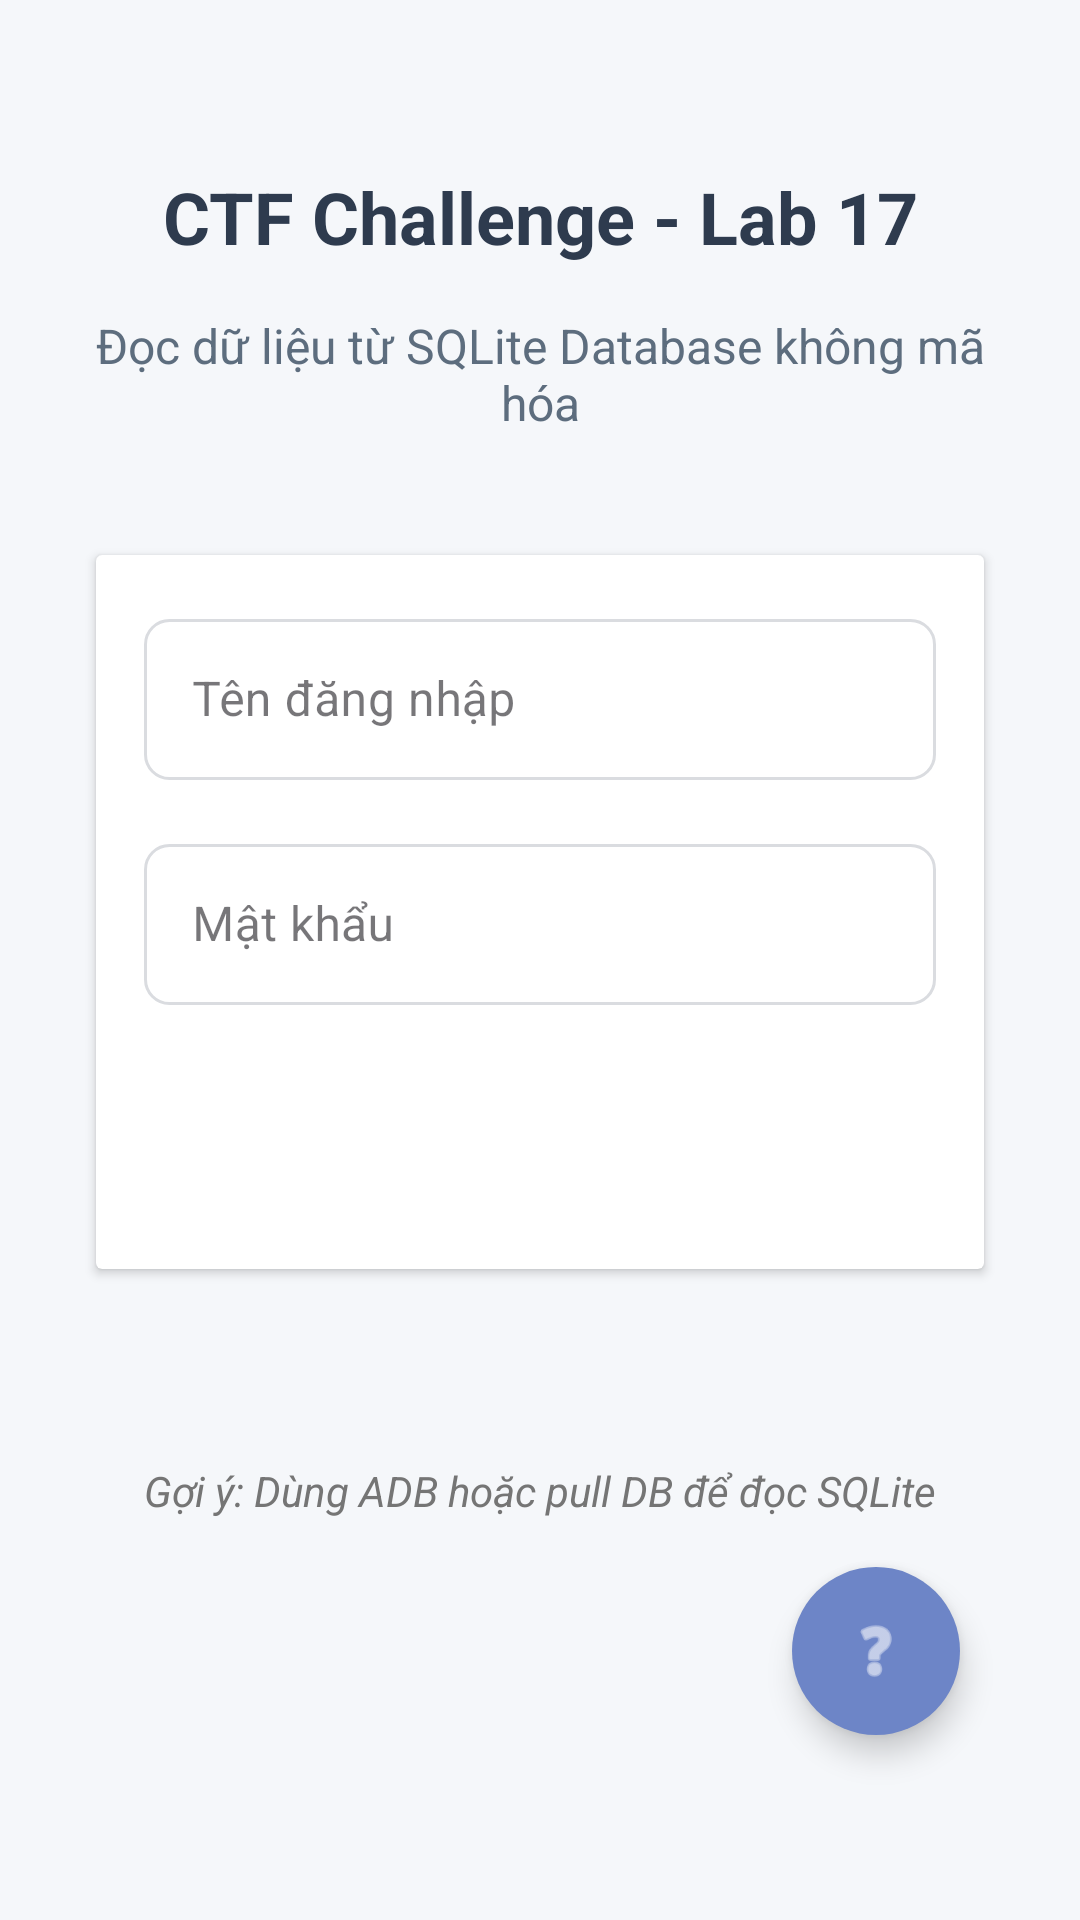

Point at icon controls on the screen. Image size 1080px x 1920px, points as (x,y).
Help: (876,1651)
